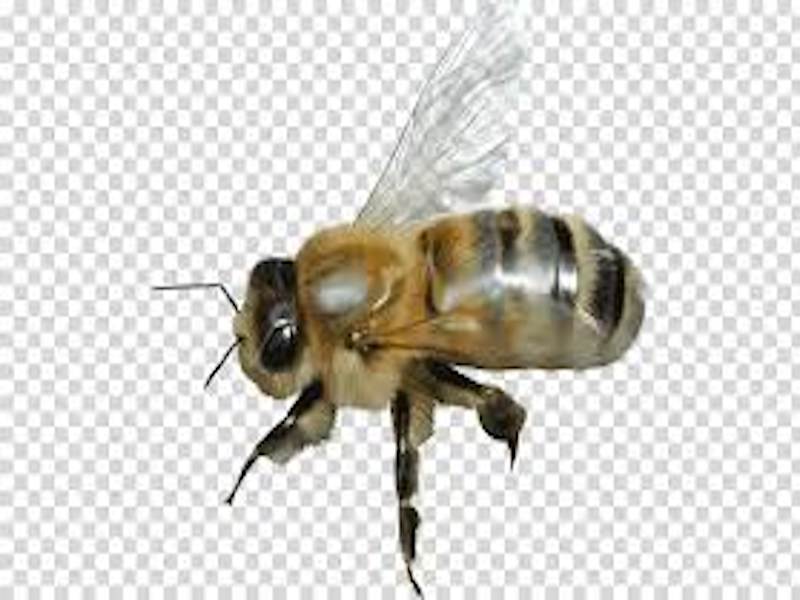abeja: (147, 17, 672, 587)
